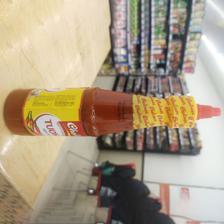Tuong: (3, 86, 222, 137)
